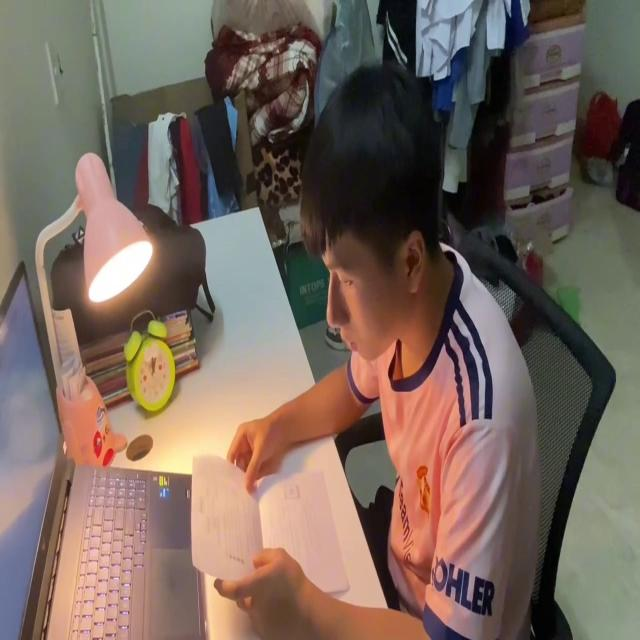book: (190, 442, 351, 602)
laptop: (0, 259, 208, 640)
student: (216, 64, 538, 640)
